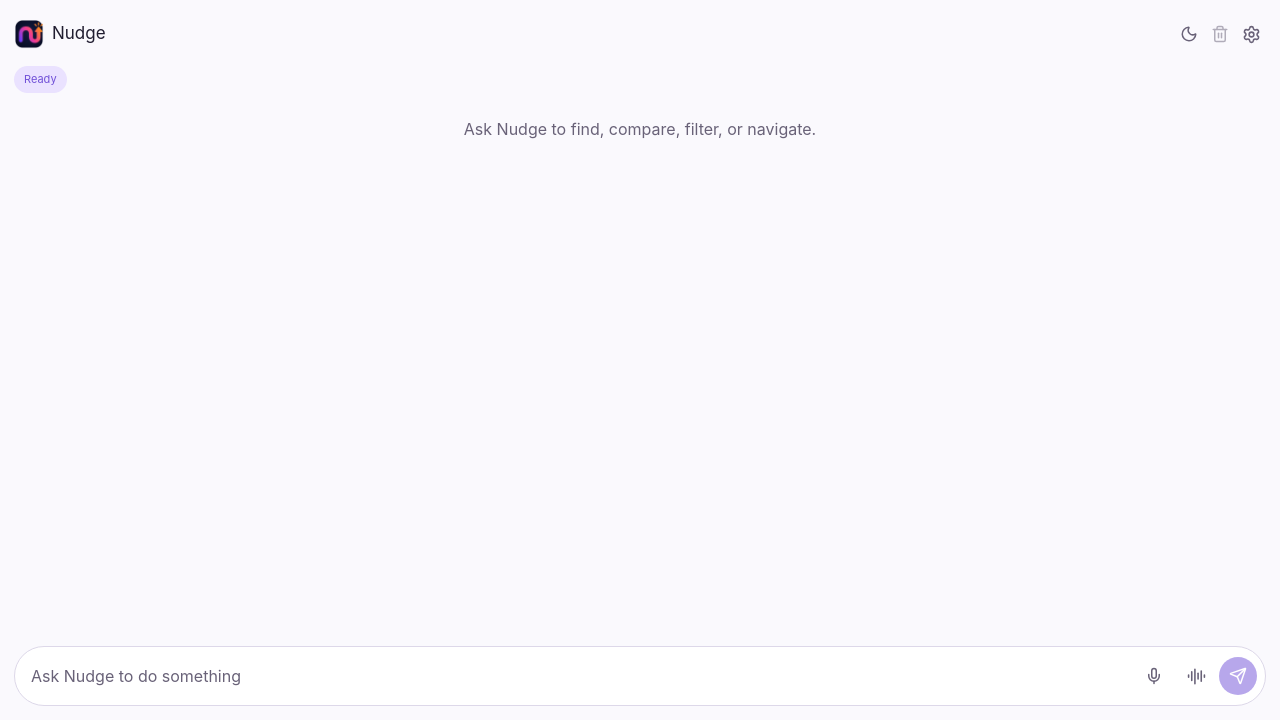
SidePanel › puts completed dictation in the composer without sending it
The image size is (1280, 720).
Click the button named "Dictate message" at [1154, 676], box x1=1135 y1=657 x2=1173 y2=695
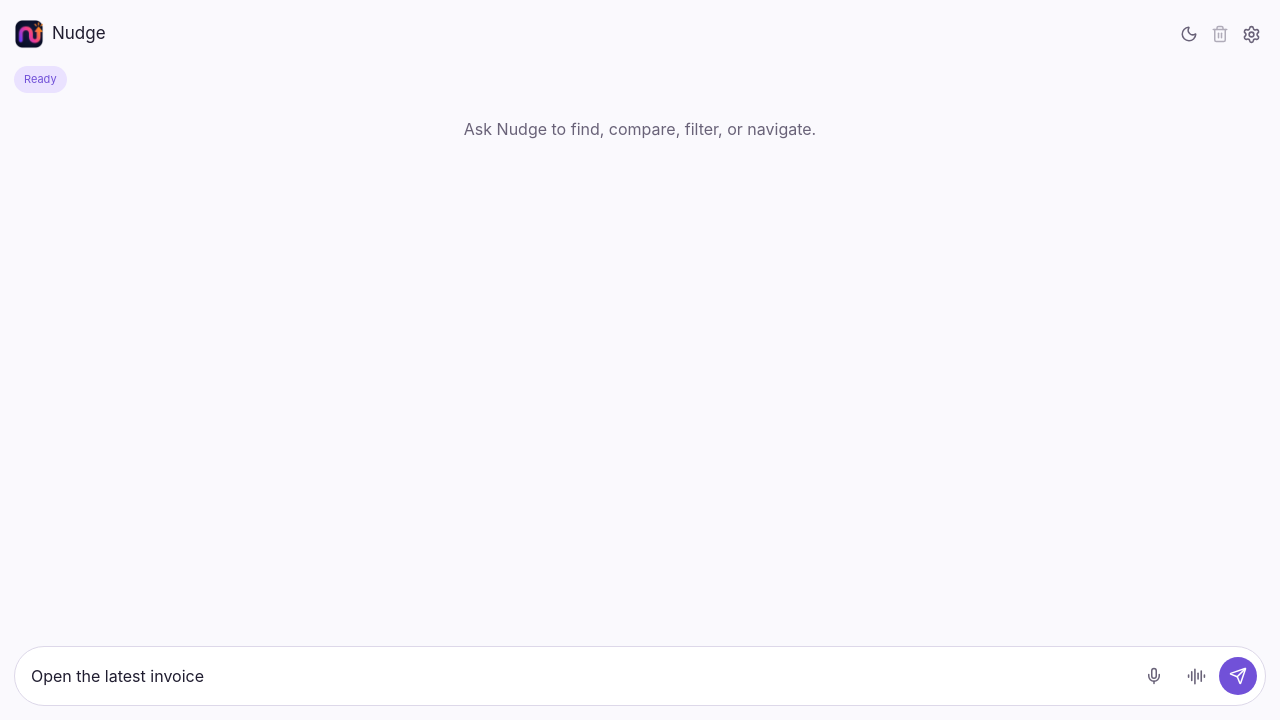
Check: the field showing "Open the latest invoice" is shown, box x1=31 y1=654 x2=1127 y2=698
